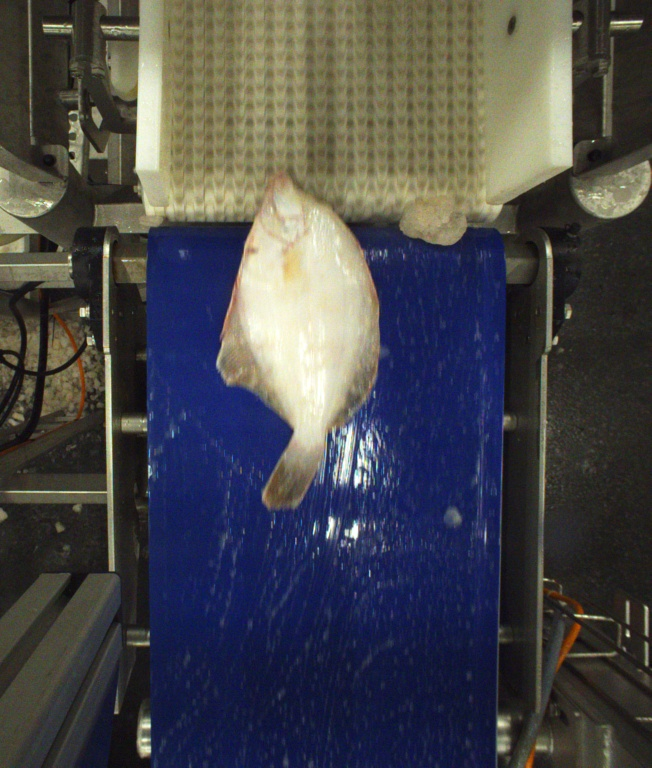PLE: (215, 173, 380, 514)
